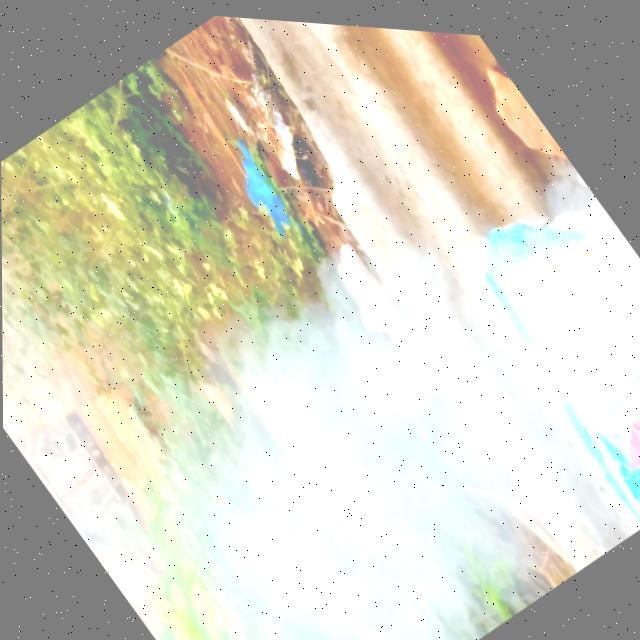Smoke: (64, 174, 638, 640)
